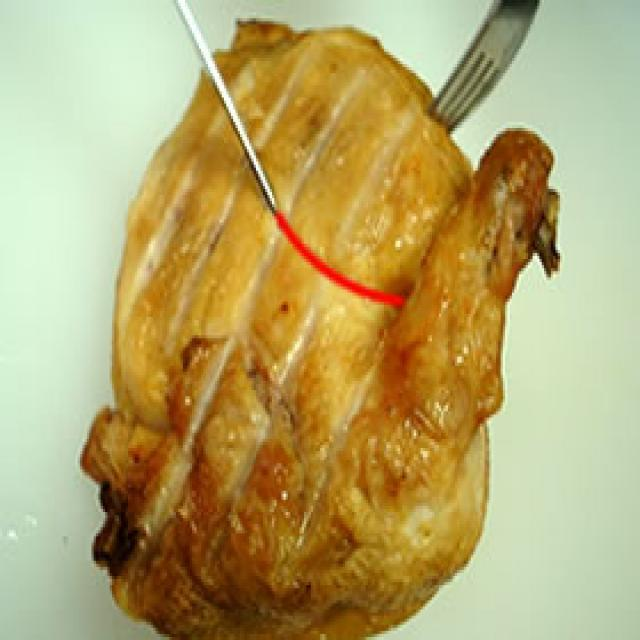Chicken roast: (110, 6, 554, 640)
